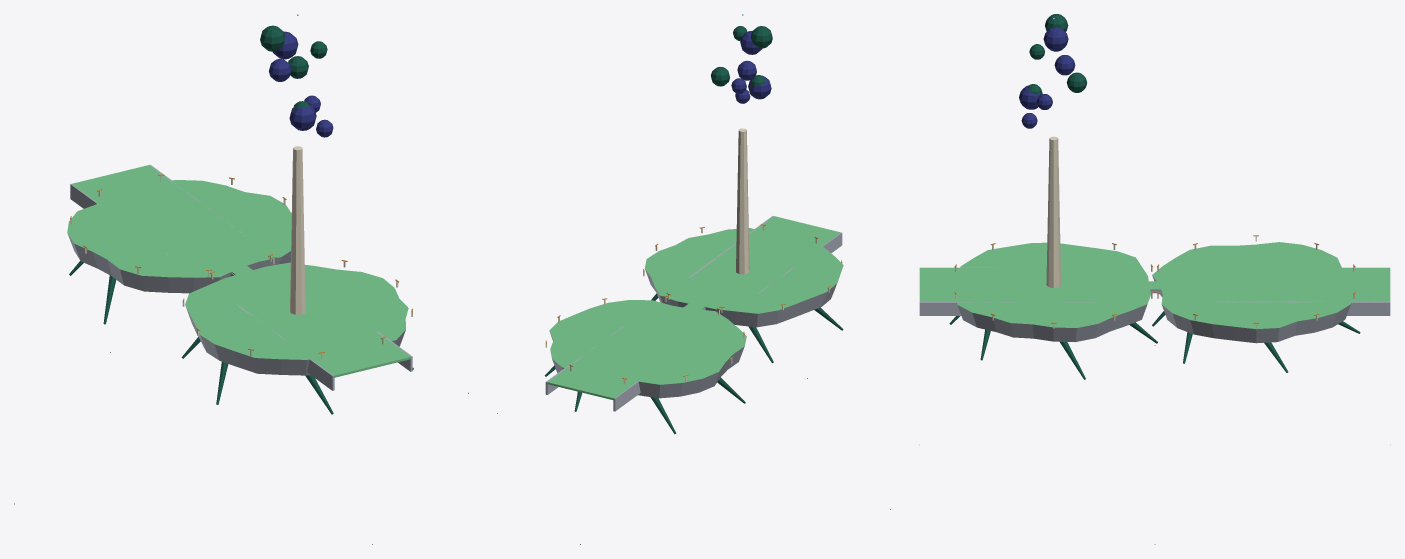
File: chunk_es_path_straight.fbx
3 views of the same model, side by side, from view 1: azimuth 30°, elevation 25°; view 2: azimuth 150°, elevation 25°; view 3: azimuth 270°, elevation 25° (orthographic). The views are drawn at different scales.
Visible parts, largest first — view 1: ES_PATH_STRAIGHT; view 2: ES_PATH_STRAIGHT; view 3: ES_PATH_STRAIGHT.
Boxes of the visible parts, <box> form: ES_PATH_STRAIGHT: <box>14,14,468,544</box>; ES_PATH_STRAIGHT: <box>497,14,890,544</box>; ES_PATH_STRAIGHT: <box>919,14,1390,544</box>.
Size of the model in its own units: 256 by 256 by 256.
